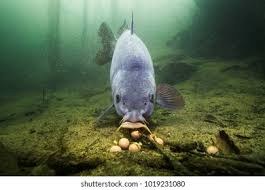carp: (95, 9, 186, 131)
